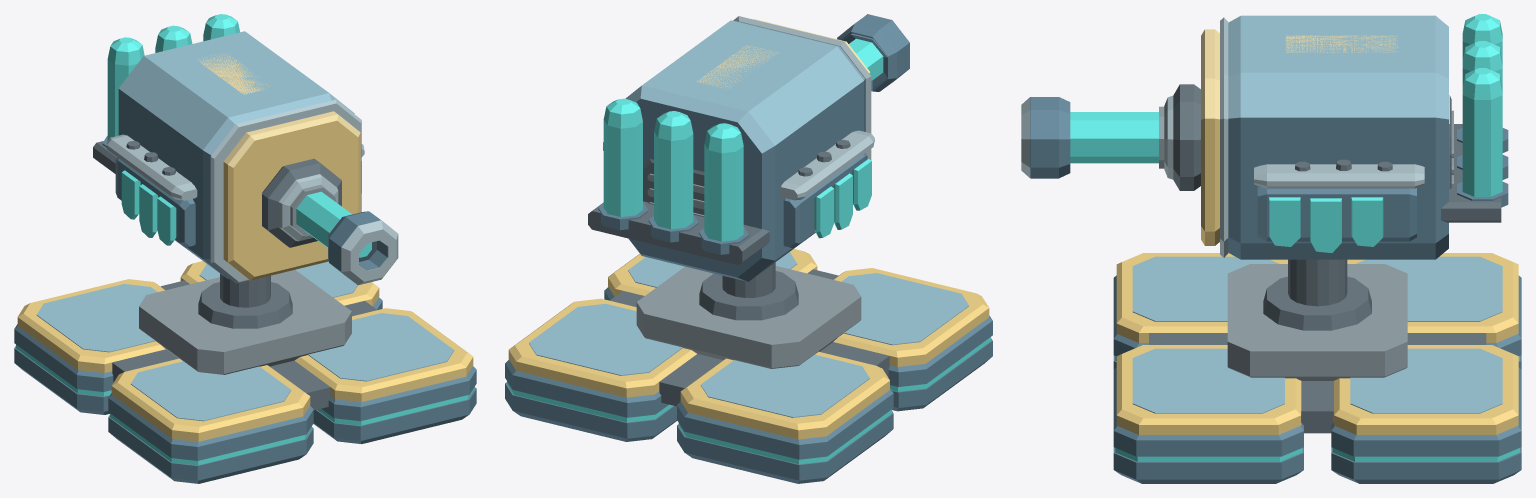
Rendered from Laser.fbx.
The picture shows the model from 3 angles, left to right: view 1: azimuth 30°, elevation 25°; view 2: azimuth 150°, elevation 25°; view 3: azimuth 270°, elevation 25°; orthographic projection. The views are drawn at different scales.
Visible parts, largest first — view 1: LaserTurret_Base, T1Barrel, T2Barrel, T3Barrel; view 2: LaserTurret_Base, T1Barrel, T3Barrel, T2Barrel; view 3: LaserTurret_Base, T1Barrel, T3Barrel, T2Barrel.
Part boxes in pixels (x1=…): LaserTurret_Base: x1=14, y1=261, x2=476, y2=483; T1Barrel: x1=107, y1=31, x2=398, y2=285; T2Barrel: x1=107, y1=53, x2=398, y2=278; T3Barrel: x1=93, y1=14, x2=239, y2=203; LaserTurret_Base: x1=505, y1=249, x2=992, y2=483; T1Barrel: x1=603, y1=14, x2=909, y2=281; T3Barrel: x1=588, y1=82, x2=865, y2=272; T2Barrel: x1=603, y1=33, x2=909, y2=272; LaserTurret_Base: x1=1113, y1=253, x2=1521, y2=483; T1Barrel: x1=1021, y1=15, x2=1453, y2=259; T3Barrel: x1=1228, y1=14, x2=1508, y2=239; T2Barrel: x1=1021, y1=35, x2=1453, y2=246.
Bounding box in the file's own units: 2.18 × 2.1 × 2.67.
